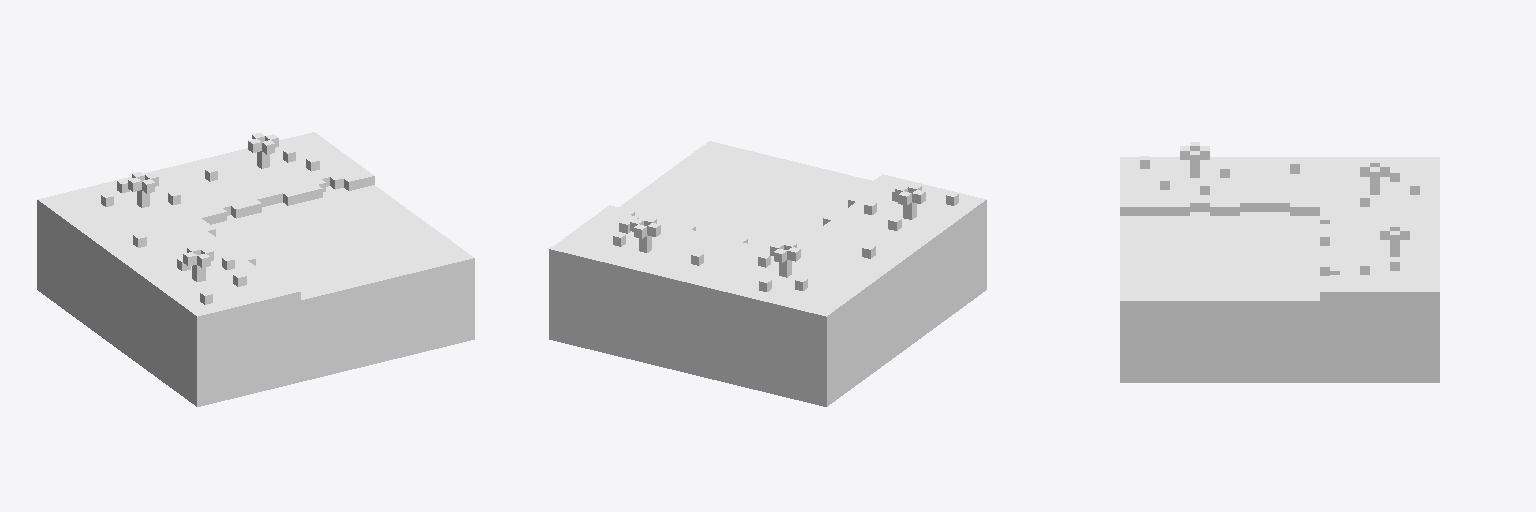
File: Overworld_Ocean_01.obj
The picture shows the model from 3 angles: view 1: azimuth 30°, elevation 25°; view 2: azimuth 150°, elevation 25°; view 3: azimuth 270°, elevation 25°; orthographic projection.
Visible parts, largest first — view 1: object 1; view 2: object 1; view 3: object 1.
Boxes of the visible parts, <box> form: object 1: <box>37,132,474,406</box>; object 1: <box>549,141,986,406</box>; object 1: <box>1120,142,1439,382</box>.
Size of the model in its own units: 3.2 by 1.3 by 3.2.